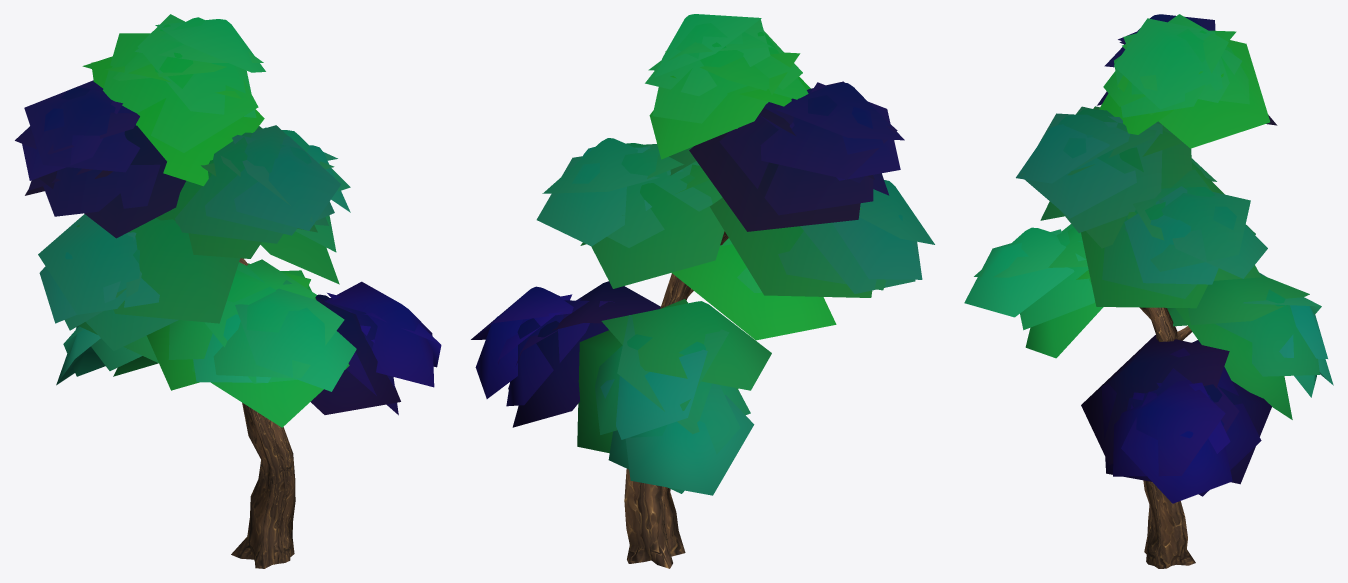
The model's file is FantasyTree17.fbx.
3 views of the same model, side by side, from view 1: azimuth 30°, elevation 25°; view 2: azimuth 150°, elevation 25°; view 3: azimuth 270°, elevation 25° (orthographic). The views are drawn at different scales.
Parts seen in each view (by area): view 1: fantasyleaf4_alpha_1, tree2_0; view 2: fantasyleaf4_alpha_1, tree2_0; view 3: fantasyleaf4_alpha_1, tree2_0.
Part boxes in pixels (<box>): fantasyleaf4_alpha_1: <box>15,14,441,427</box>; tree2_0: <box>231,258,295,568</box>; fantasyleaf4_alpha_1: <box>471,14,934,495</box>; tree2_0: <box>624,231,728,568</box>; fantasyleaf4_alpha_1: <box>964,14,1333,503</box>; tree2_0: <box>1139,307,1195,568</box>.
Size of the model in its own units: 465 by 586 by 393.
Materials: 1 (1 with a texture image).
